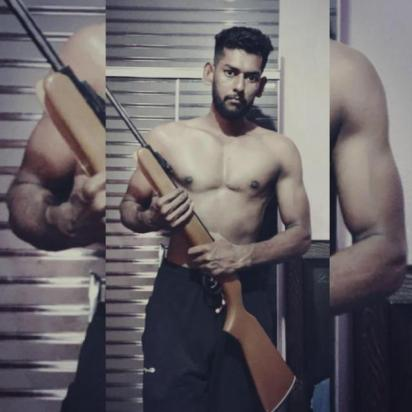Gun: (106, 85, 300, 412), (3, 0, 105, 178)
